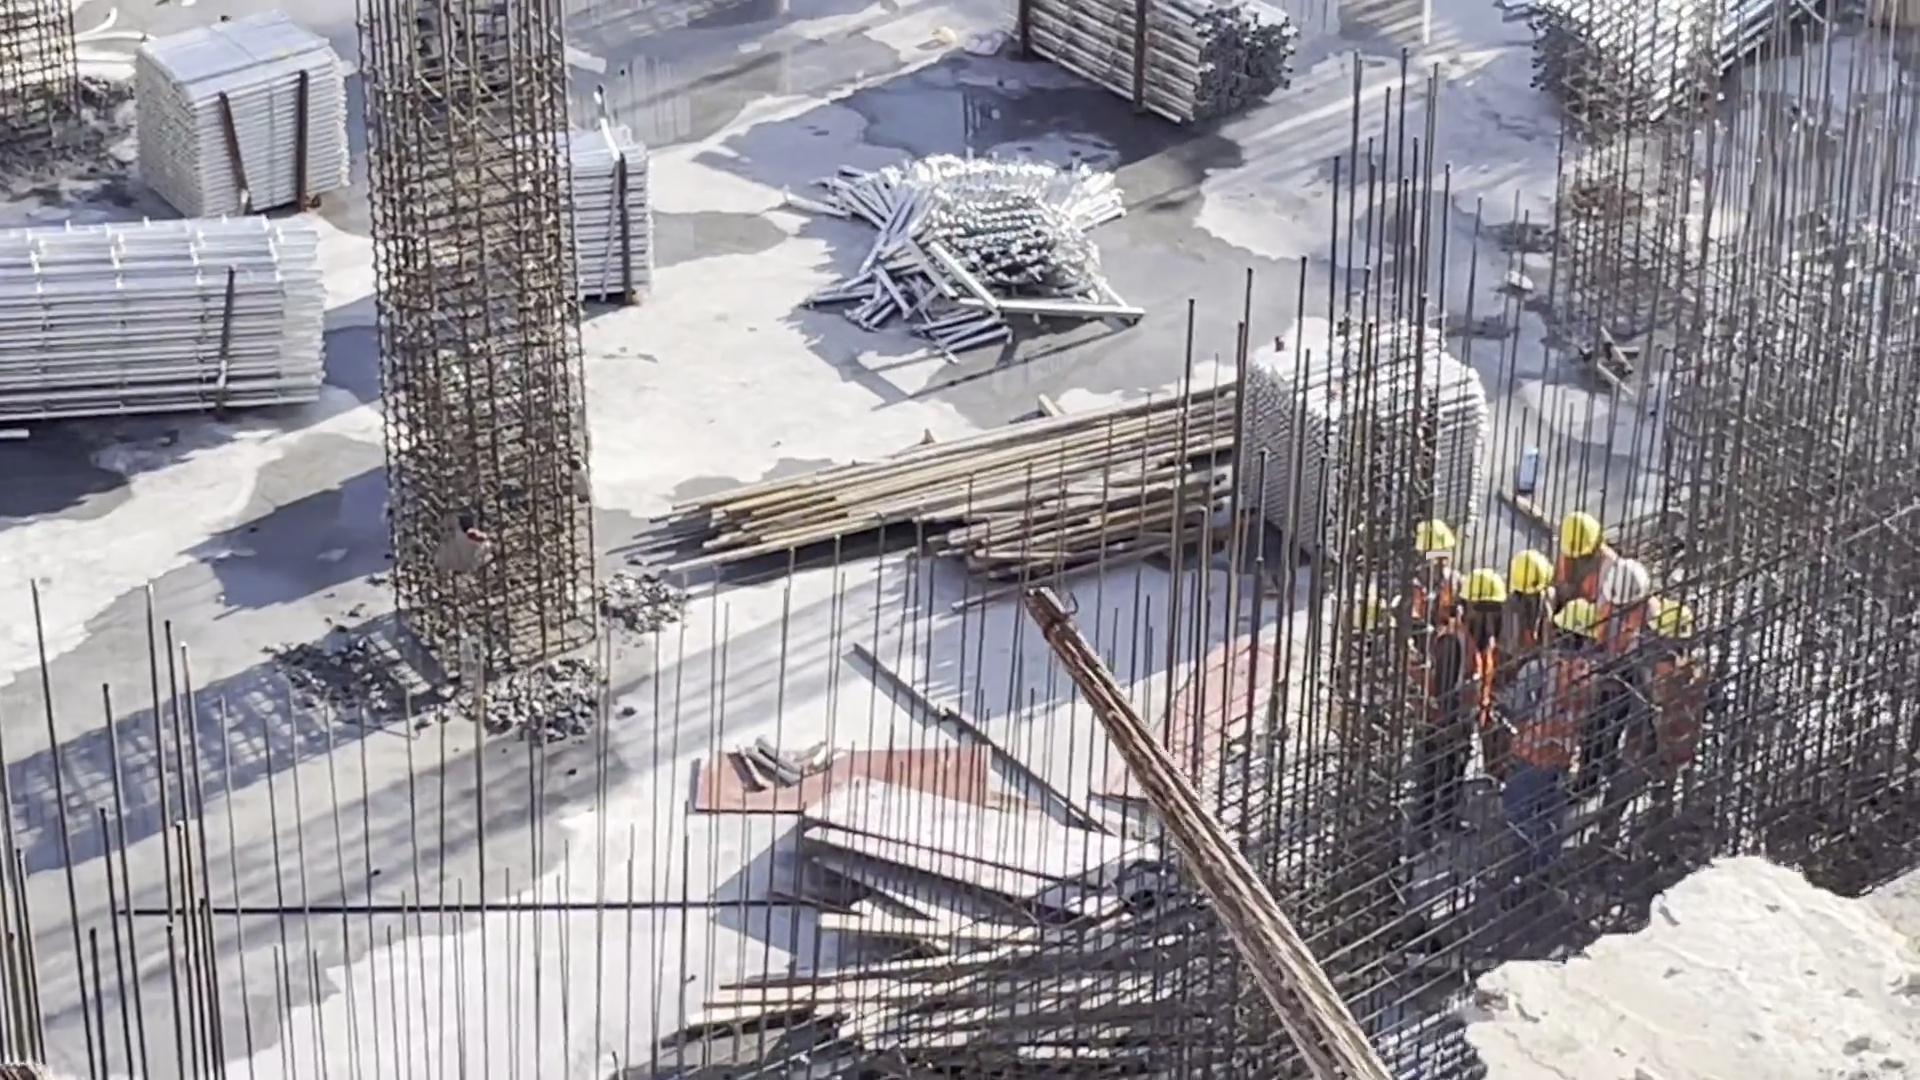board: (800, 787, 1114, 936)
helmet: (1602, 556, 1649, 600), (1465, 569, 1511, 607), (1561, 592, 1600, 638), (1561, 517, 1600, 560), (1411, 521, 1459, 555), (1650, 602, 1689, 641), (1513, 557, 1552, 594)
person: (1593, 603, 1703, 864), (1504, 597, 1598, 857), (1419, 569, 1503, 837), (1490, 548, 1559, 692), (1589, 556, 1657, 700), (1549, 510, 1623, 612), (1400, 515, 1460, 634)
scaffold: (1, 224, 344, 393), (835, 157, 1139, 308), (1227, 340, 1451, 517), (1528, 1, 1823, 135), (139, 37, 356, 215), (1025, 1, 1285, 128), (544, 164, 651, 308)
wood: (724, 937, 1227, 1068)
